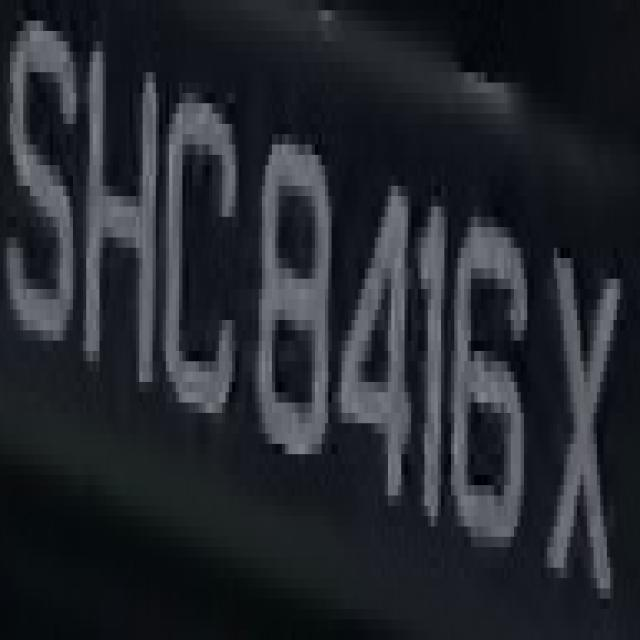1: (414, 165, 454, 558)
4: (325, 144, 414, 496)
6: (448, 166, 527, 588)
8: (245, 114, 338, 536)
C: (159, 52, 239, 464)
H: (83, 11, 159, 423)
S: (7, 10, 83, 413)
X: (540, 206, 626, 630)
